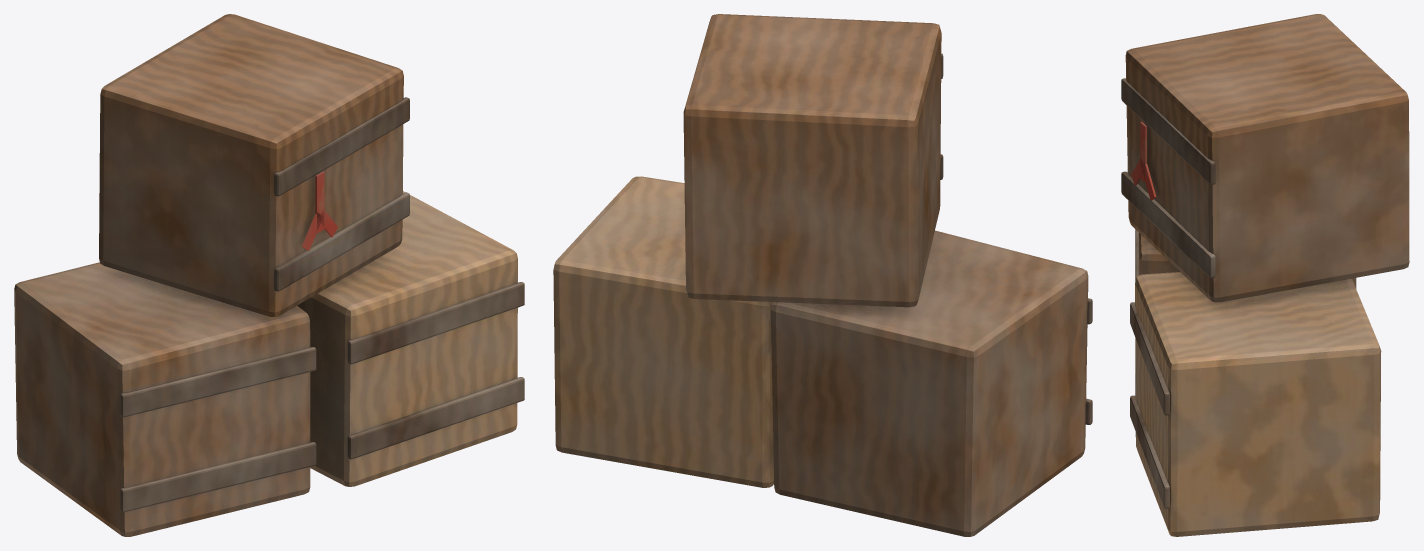
File: crate_stack.glb
The picture shows the model from 3 angles, left to right: view 1: azimuth 30°, elevation 25°; view 2: azimuth 150°, elevation 25°; view 3: azimuth 270°, elevation 25°; orthographic projection. The views are drawn at different scales.
Visible parts, largest first — view 1: CrateStack_Mesh, Arrow_Mesh; view 2: CrateStack_Mesh; view 3: CrateStack_Mesh, Arrow_Mesh.
Part boxes in pixels (x1,y1,x2,y2): CrateStack_Mesh: (14, 14, 524, 536); Arrow_Mesh: (302, 172, 337, 250); CrateStack_Mesh: (553, 14, 1092, 536); CrateStack_Mesh: (1121, 14, 1409, 536); Arrow_Mesh: (1131, 122, 1156, 200).
Size of the model in its own units: 2.3 by 1.96 by 1.4.
2 materials, 2 textured.
